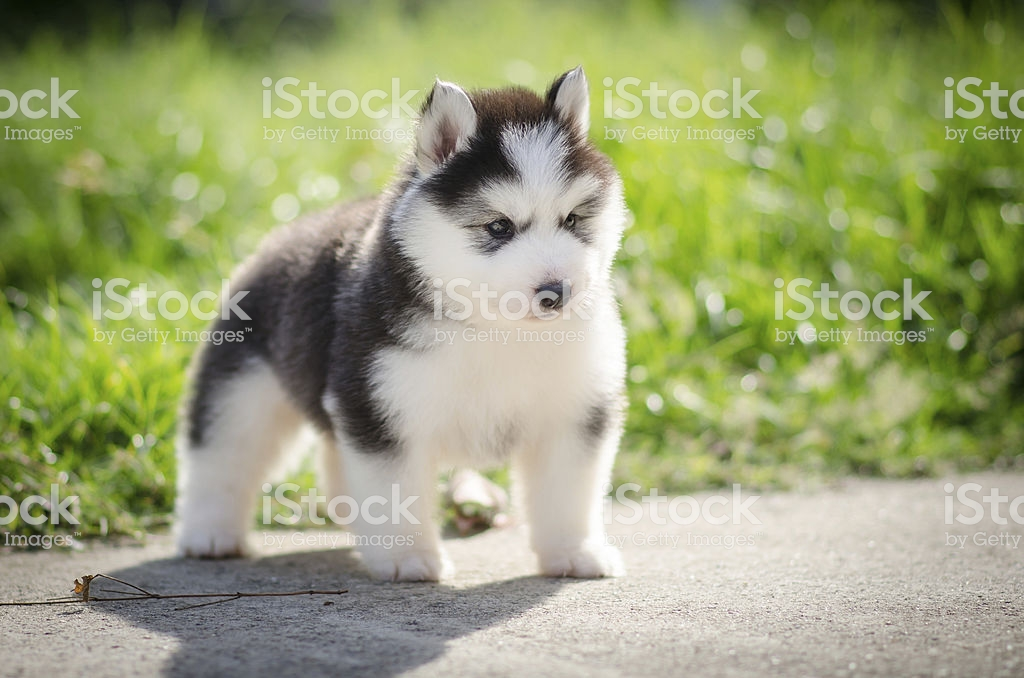husky: (160, 46, 673, 564)
